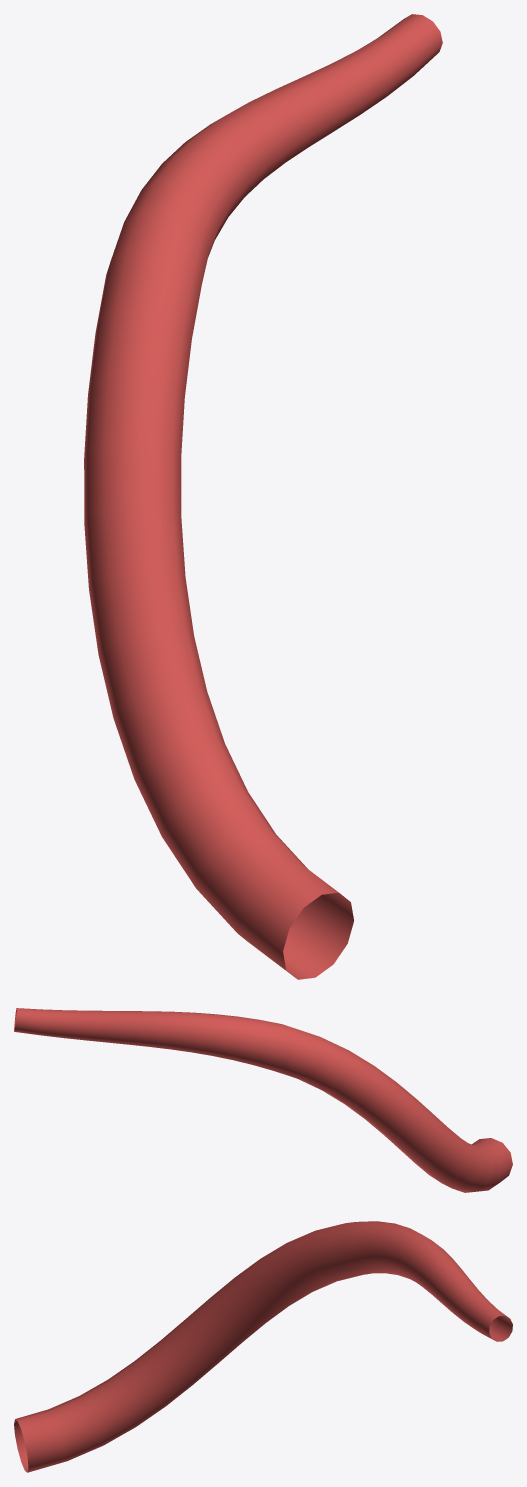
The picture shows the model from 3 angles, top to bottom: view 1: azimuth 30°, elevation 25°; view 2: azimuth 150°, elevation 25°; view 3: azimuth 270°, elevation 25°; orthographic projection. The views are drawn at different scales.
Parts seen in each view (by area): view 1: 右侧腓动脉跟支; view 2: 右侧腓动脉跟支; view 3: 右侧腓动脉跟支.
Boxes of the visible parts, x1,y1,x2,y2 form: 右侧腓动脉跟支: (84,14,442,979); 右侧腓动脉跟支: (14,1008,512,1192); 右侧腓动脉跟支: (14,1221,512,1472).
Size of the model in its own units: 0.0126 by 0.0107 by 0.0159.
